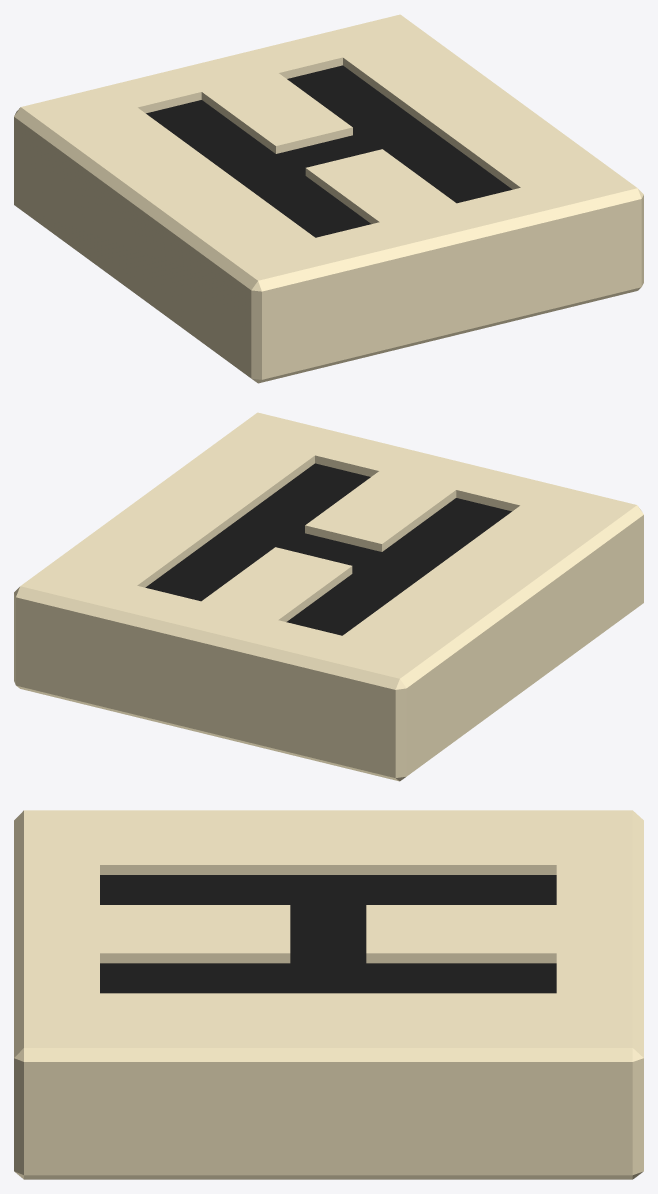
Rendered from Boardgame_Piece_Anagram_Letter_H_01.fbx.
The picture shows the model from 3 angles, top to bottom: view 1: azimuth 30°, elevation 25°; view 2: azimuth 150°, elevation 25°; view 3: azimuth 270°, elevation 25°; orthographic projection. The views are drawn at different scales.
Parts seen in each view (by area): view 1: Boardgame_Piece_Anagram_Letter_H_01; view 2: Boardgame_Piece_Anagram_Letter_H_01; view 3: Boardgame_Piece_Anagram_Letter_H_01.
Boxes of the visible parts, x1,y1,x2,y2 form: Boardgame_Piece_Anagram_Letter_H_01: (14, 14, 643, 383); Boardgame_Piece_Anagram_Letter_H_01: (14, 412, 643, 781); Boardgame_Piece_Anagram_Letter_H_01: (14, 810, 643, 1179).
Bounding box in the file's own units: 39.37 × 9.84 × 42.65.
